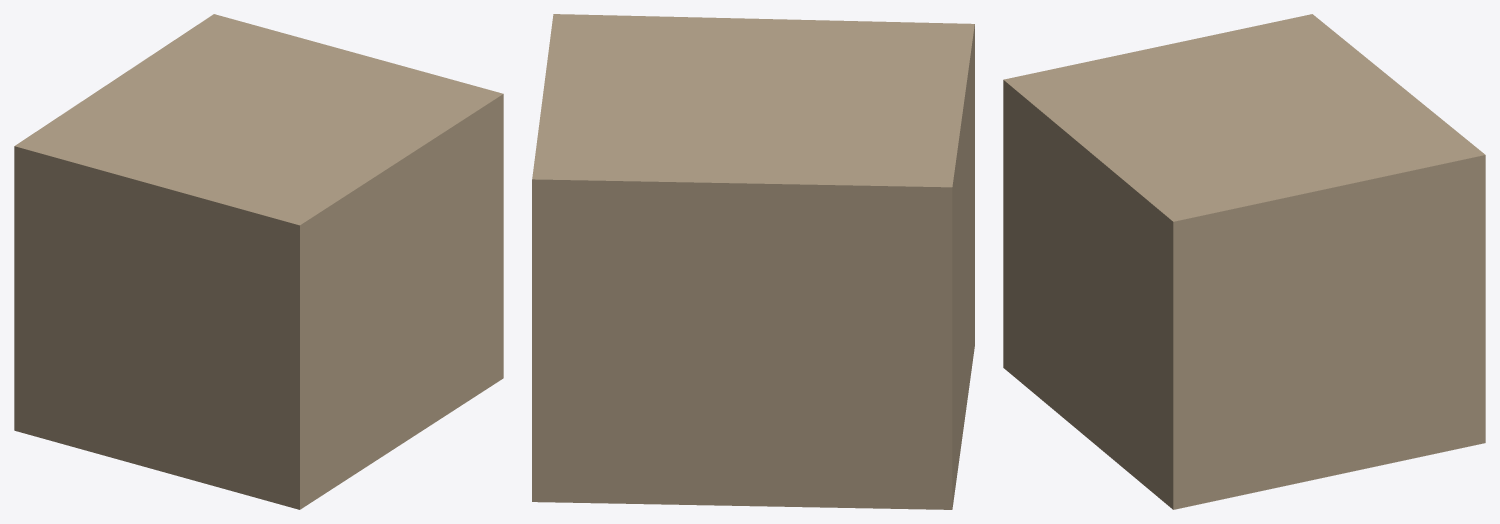
The model's file is bld_101805782.dae.
3 views of the same model, side by side, from view 1: azimuth 30°, elevation 25°; view 2: azimuth 150°, elevation 25°; view 3: azimuth 270°, elevation 25° (orthographic). The views are drawn at different scales.
Parts seen in each view (by area): view 1: bld_101805782; view 2: bld_101805782; view 3: bld_101805782.
Boxes of the visible parts, x1,y1,x2,y2 form: bld_101805782: (14,14,503,509); bld_101805782: (532,14,974,509); bld_101805782: (1003,14,1485,509).
Size of the model in its own units: 12.38 by 12.14 by 8.
